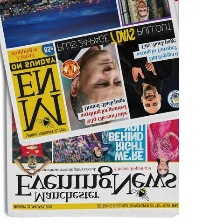news_paper: (4, 52, 184, 221), (0, 0, 197, 136)
